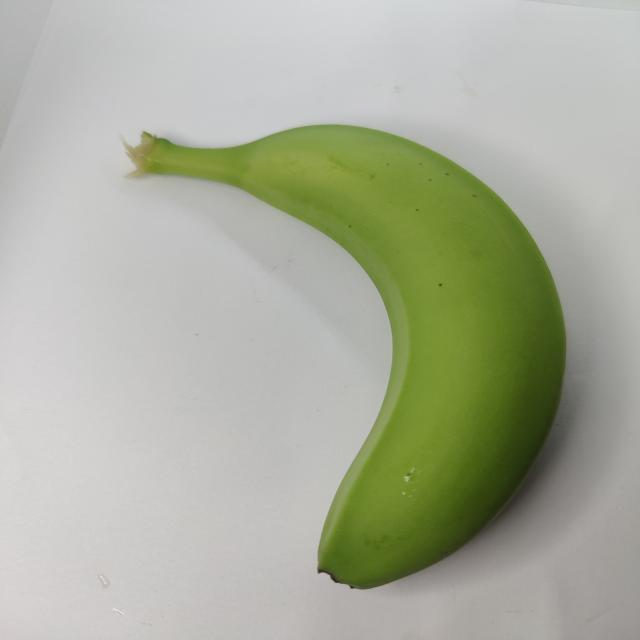raw: (85, 106, 593, 596)
